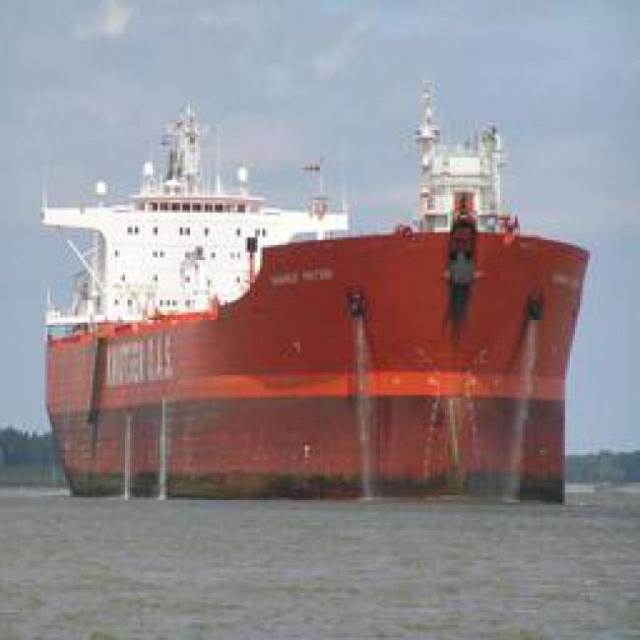boat: (34, 177, 592, 528)
